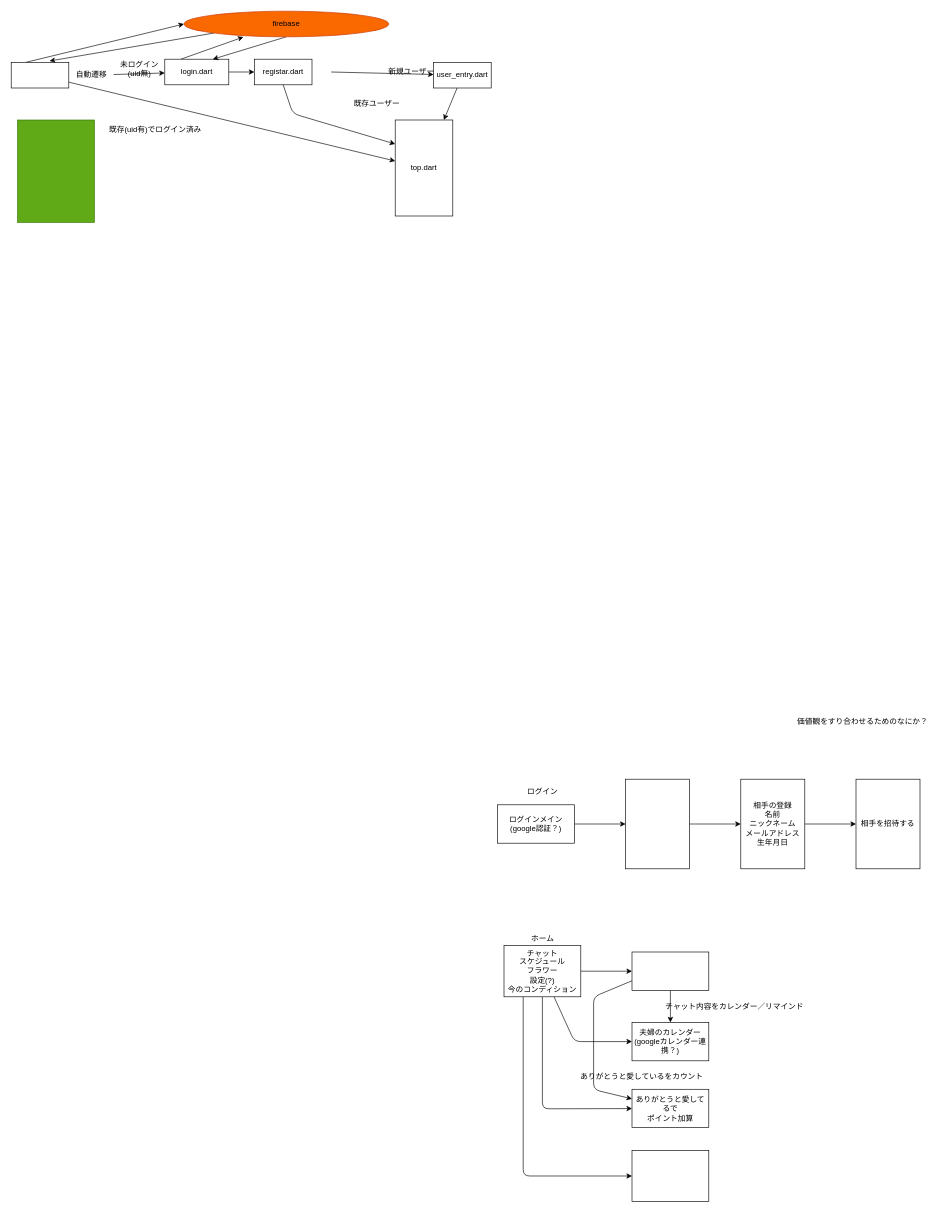
This 947x1213 diagram has some shape labels left out. Each missing label, with the centre of its shape:
"[ユーザー登録] メールアドレス 名前 電話番号 ニックネーム 生年月日 記念日(複数)" belongs at (55,170).
"main.dart" belongs at (40,75).
"チャット 表現をやさしく" belongs at (670,970).
"今のコンディションを相手に送信／ 相手からの送信されたコンディションを 表示" belongs at (670,1176).
"自分の登録 名前 ニックネーム メールアドレス 生年月日" belongs at (657,824).
